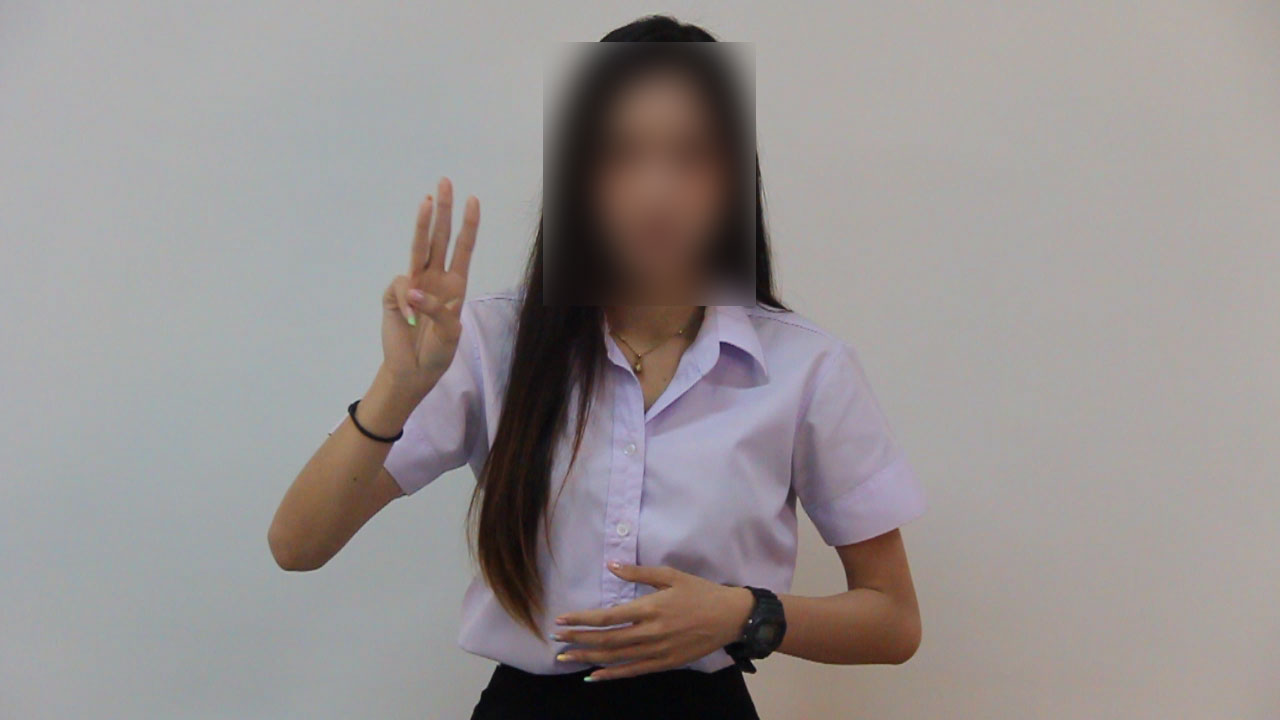wor: (374, 168, 492, 398)
